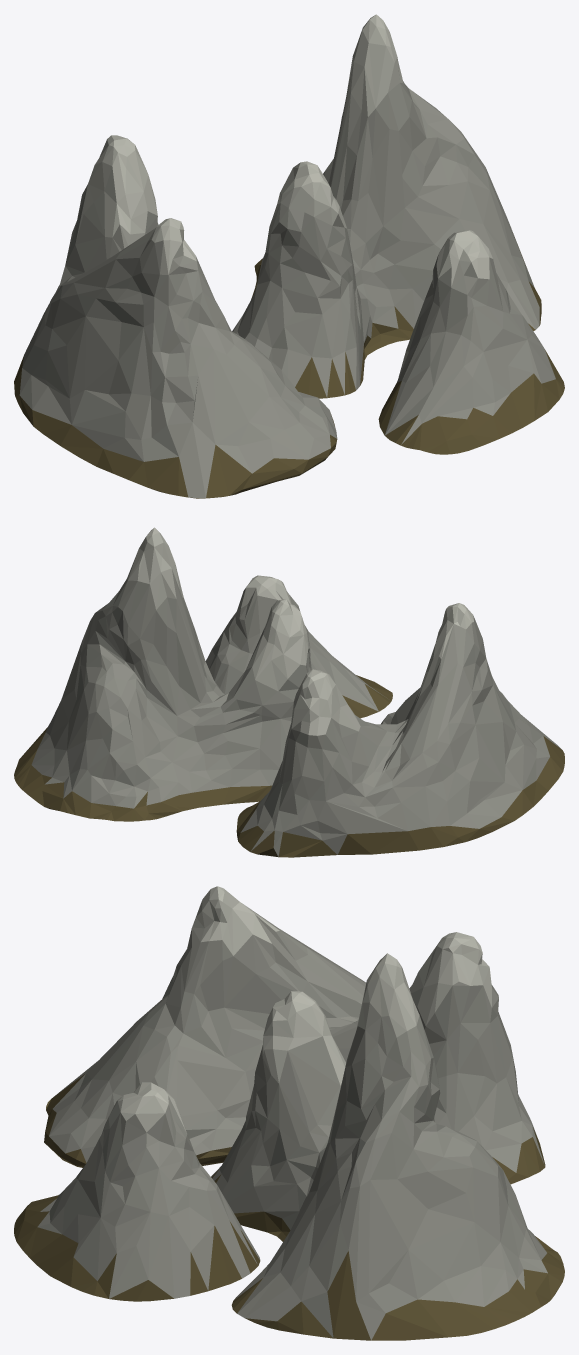
The model's file is Mountain_Group_1.glb.
3 renders of one model, top to bottom at view 1: azimuth 30°, elevation 25°; view 2: azimuth 150°, elevation 25°; view 3: azimuth 270°, elevation 25°, orthographic. The views are drawn at different scales.
Parts seen in each view (by area): view 1: Mountain_Group_1; view 2: Mountain_Group_1; view 3: Mountain_Group_1.
Boxes of the visible parts, left/top/right/bottom form: Mountain_Group_1: left=14, top=14, right=564, bottom=498; Mountain_Group_1: left=14, top=527, right=564, bottom=857; Mountain_Group_1: left=14, top=886, right=564, bottom=1340.
Size of the model in its own units: 4.59 by 2.49 by 3.84.
